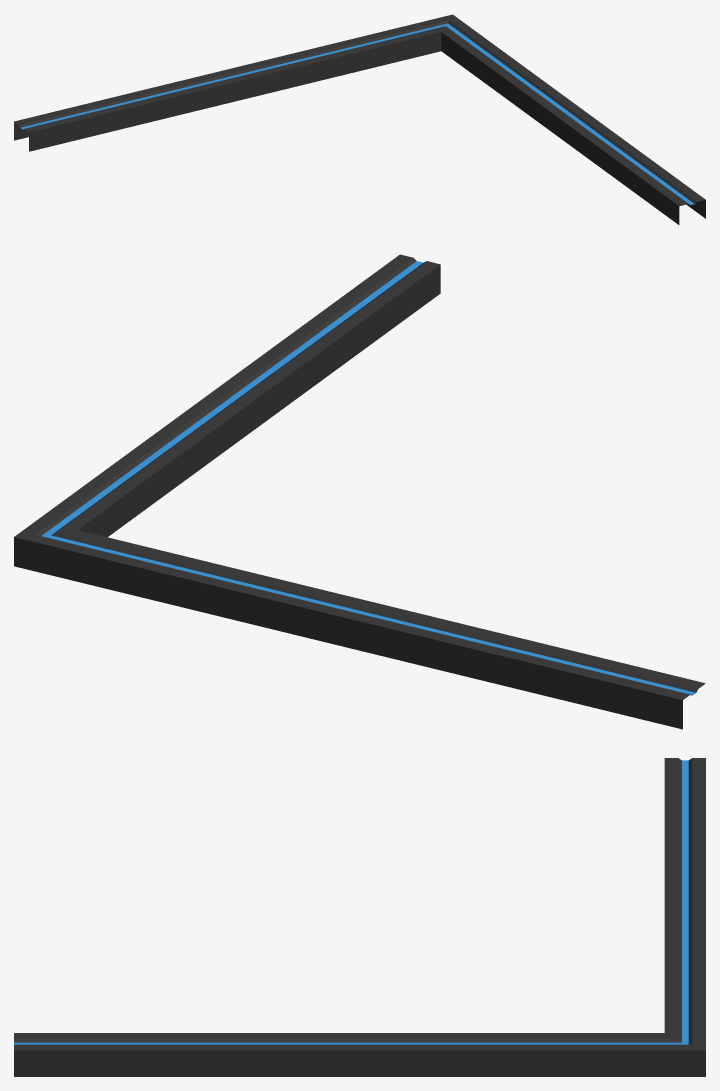
3 views of the same model, one above another, from view 1: azimuth 30°, elevation 25°; view 2: azimuth 150°, elevation 25°; view 3: azimuth 270°, elevation 25° (orthographic). The views are drawn at different scales.
Parts seen in each view (by area): view 1: 0110; view 2: 0110; view 3: 0110.
Part boxes in pixels (x1=…): 0110: x1=14, y1=14, x2=705, y2=224; 0110: x1=14, y1=254, x2=705, y2=729; 0110: x1=14, y1=758, x2=705, y2=1076.
Size of the model in its own units: 1.03 by 0.0432 by 1.03.
